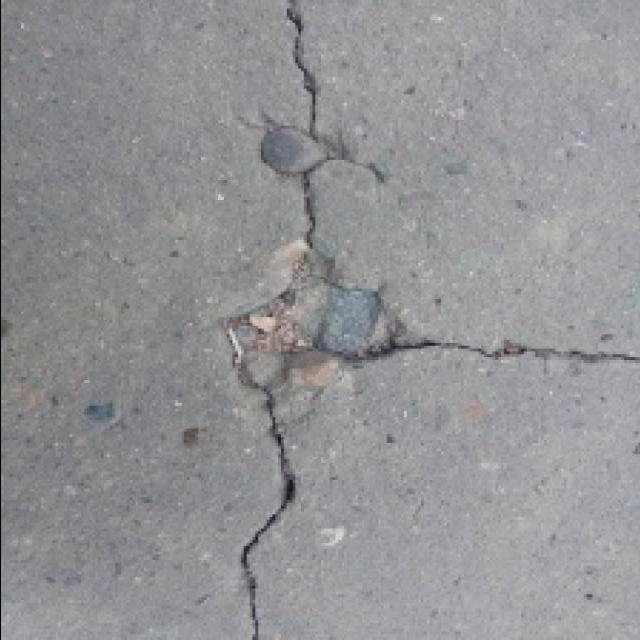SurfaceCrack: (202, 0, 396, 640), (154, 282, 640, 424)
